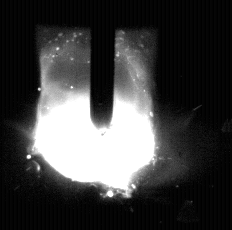arame: (90, 0, 116, 130)
poca: (33, 0, 156, 230)
